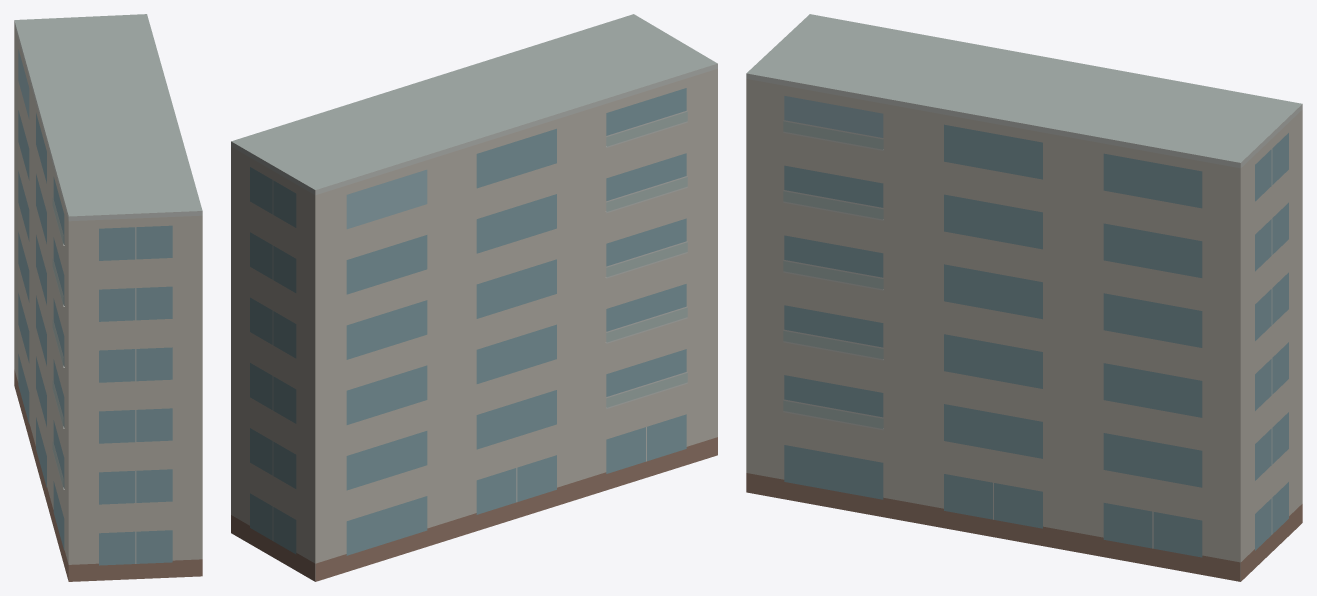
File: survey-upis-32901494.glb
3 renders of one model, left to right at view 1: azimuth 30°, elevation 25°; view 2: azimuth 150°, elevation 25°; view 3: azimuth 270°, elevation 25°, orthographic. The views are drawn at different scales.
Parts seen in each view (by area): view 1: survey-upis-32901494.tmp; view 2: survey-upis-32901494.tmp; view 3: survey-upis-32901494.tmp.
Part boxes in pixels (x1,y1,x2,y2): survey-upis-32901494.tmp: (14,14,202,581); survey-upis-32901494.tmp: (231,14,717,581); survey-upis-32901494.tmp: (746,14,1302,581).
Bounding box in the file's own units: 14.26 × 18.7 × 22.52.
